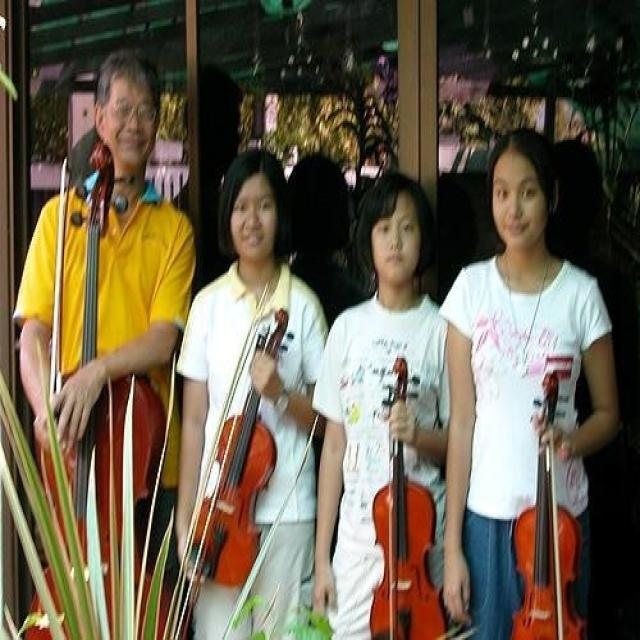cello: (17, 144, 173, 638)
violin: (187, 304, 297, 588), (364, 355, 449, 638), (507, 372, 587, 638)
